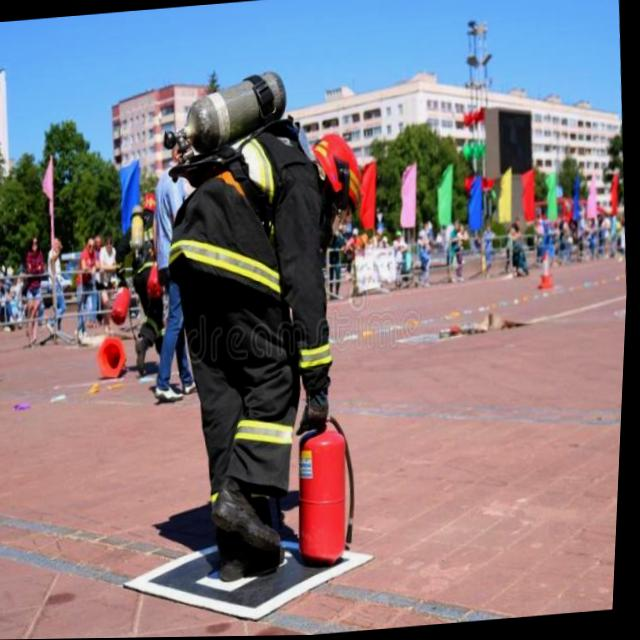FireExtinguisher: (290, 396, 373, 569), (143, 236, 180, 303), (108, 274, 137, 328)
